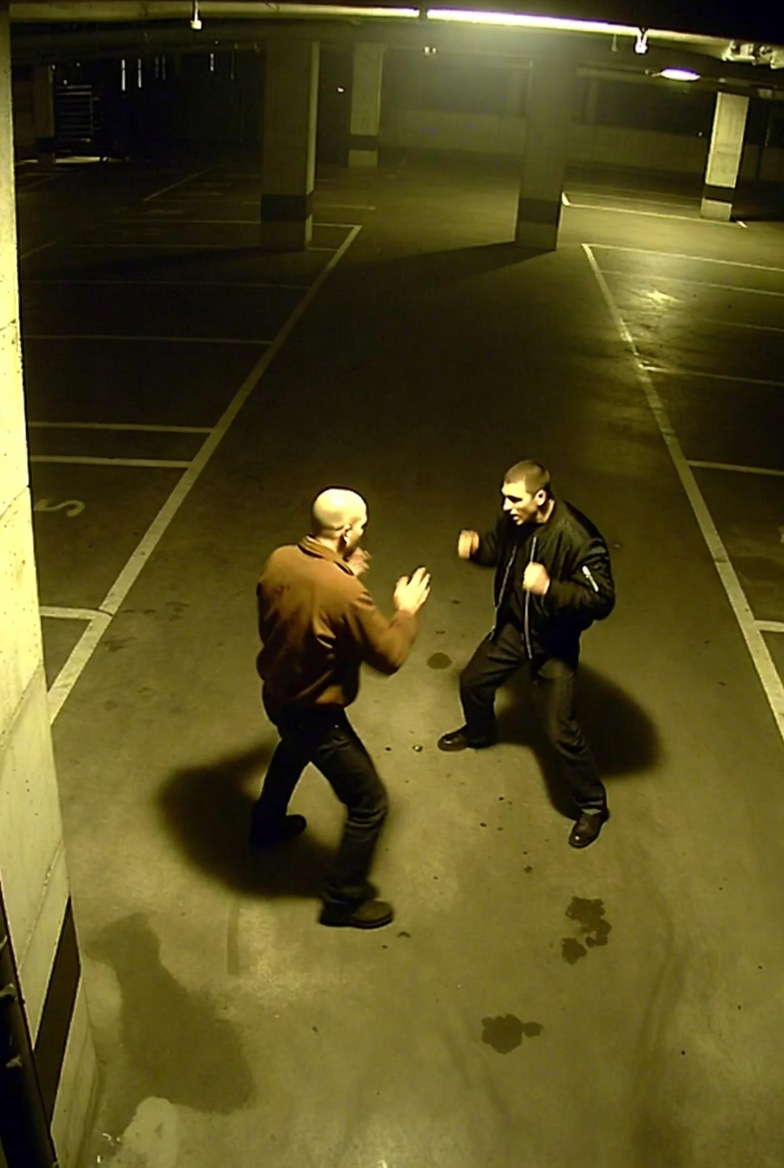Assault: (247, 486, 433, 929)
Fighting: (438, 458, 617, 851)
